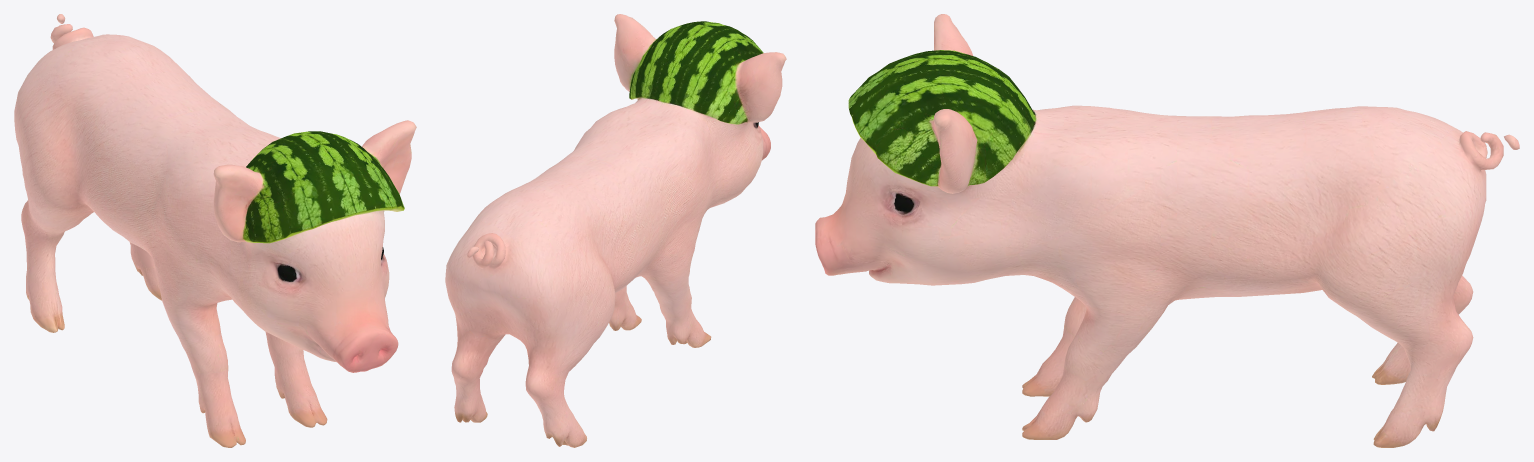
The model's file is guadai.glb.
3 views of the same model, side by side, from view 1: azimuth 30°, elevation 25°; view 2: azimuth 150°, elevation 25°; view 3: azimuth 270°, elevation 25° (orthographic). The views are drawn at different scales.
Size of the model in its own units: 0.6849 by 1.06 by 1.91.
1 material, 1 textured.
